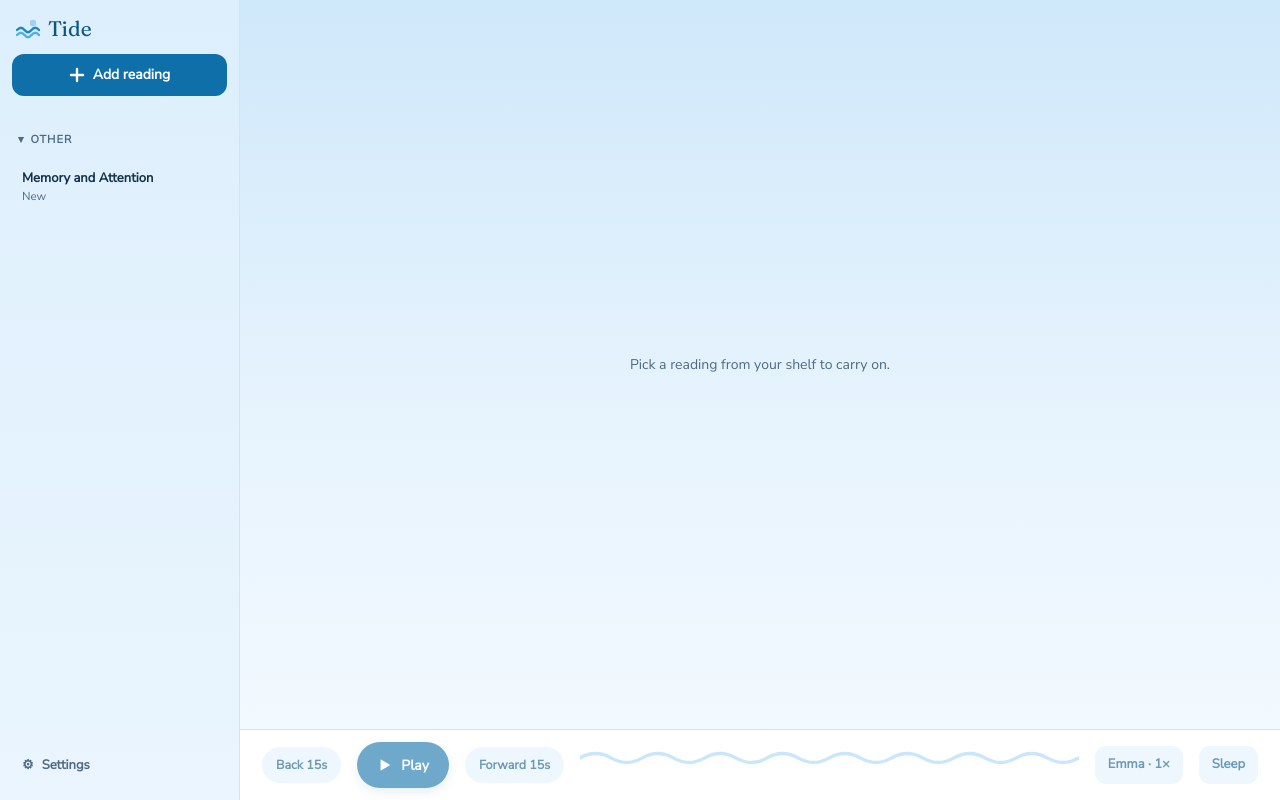
Test: Pixel Quest dialogue box › is absent under sky-sea
Click the button "Memory and Attention New" at (120, 187), box [12,162,227,212]
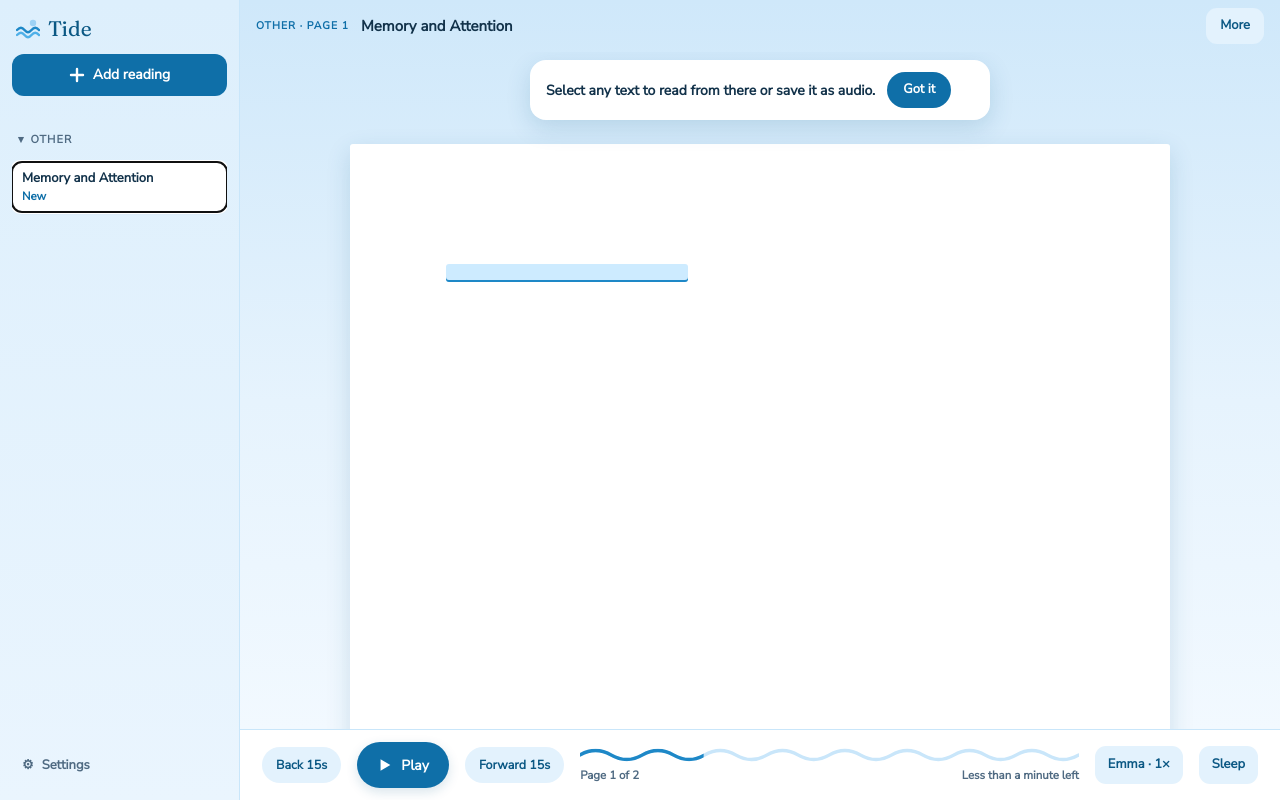
Check: the element with test id "sentence-highlight" is shown, box [446,264,688,282]
